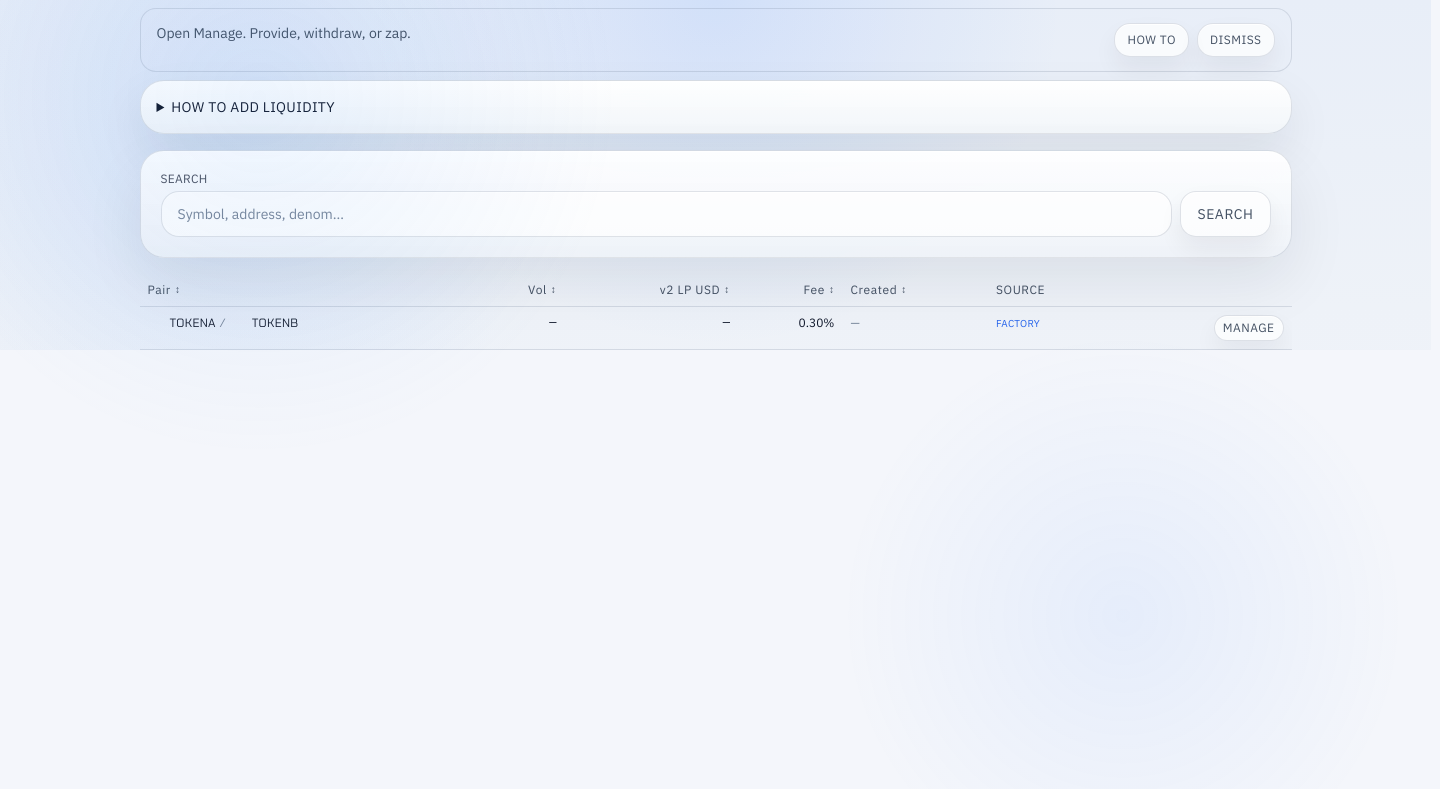
Test: PoolPage › renders pair-scoped zap add after Manage + Zap Add (GitLab #533 / #660)
Step 1. Click the button with test id "pool-row-manage" → (1249, 328), box 1214,315 -> 1284,341
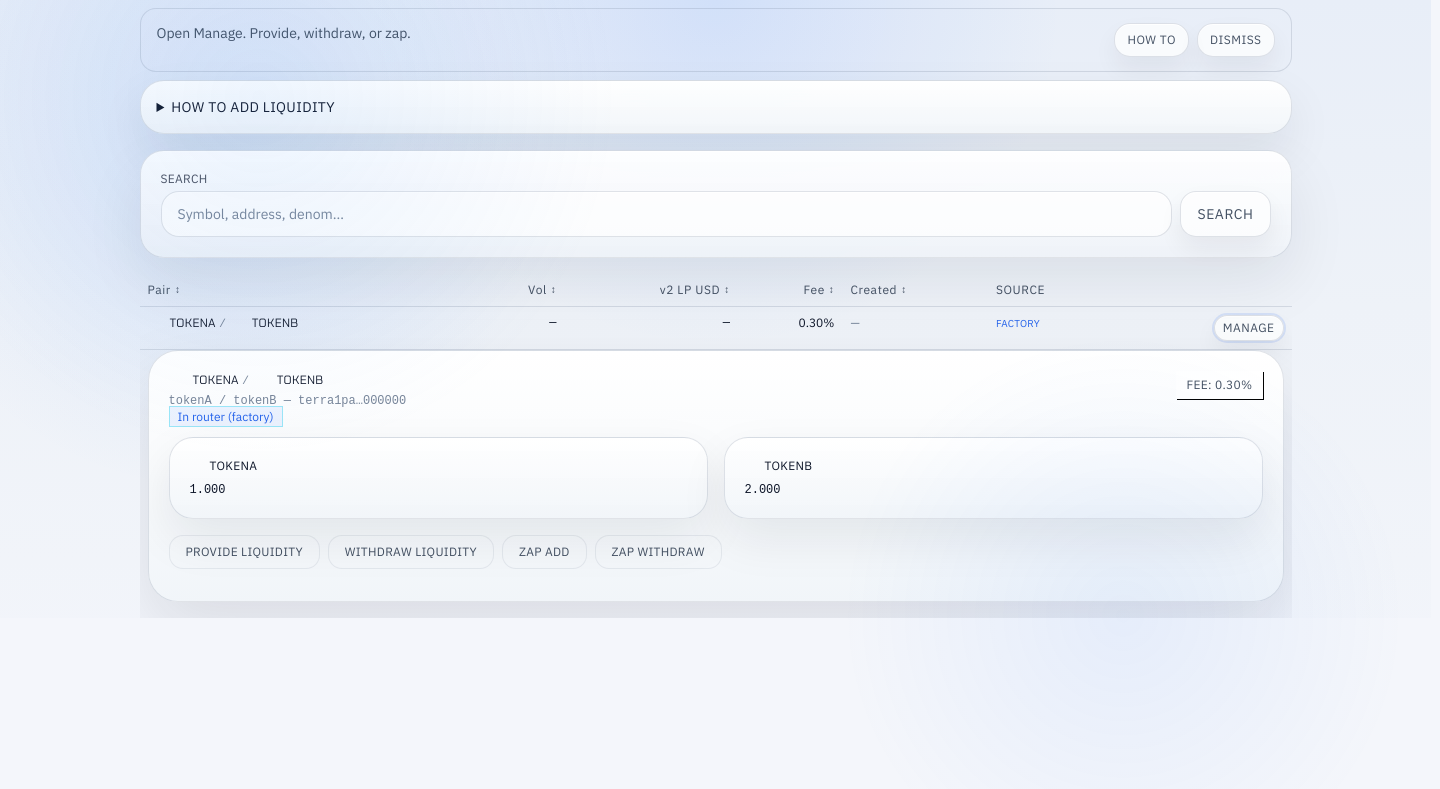
Expected: the element with test id "pool-manage-actions" is shown, 168,535 -> 722,569
Step 2. Click the button with test id "pool-manage-tab-zap-add" → (544, 552), box 502,535 -> 587,569
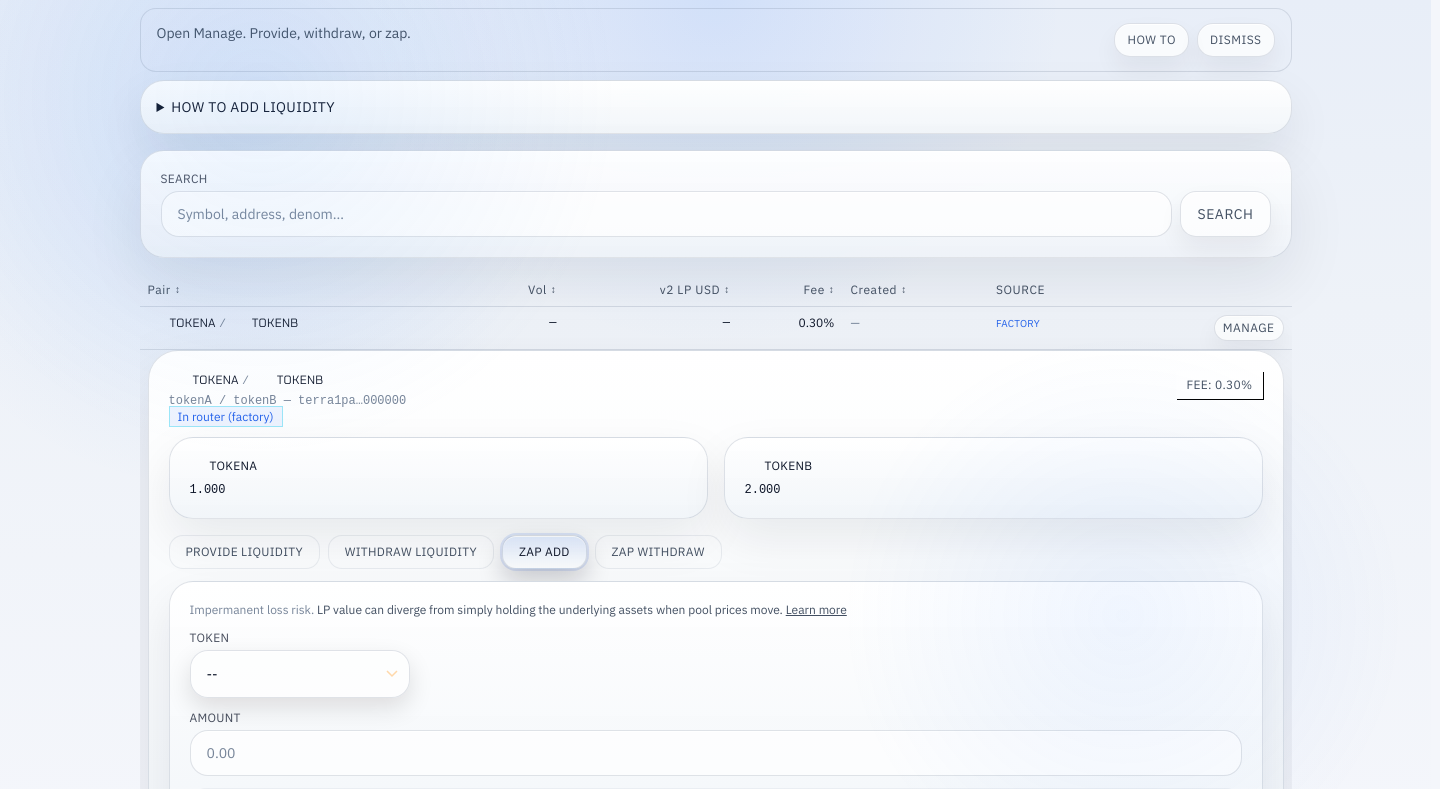
Expected: the element with test id "pool-il-risk-notice" is shown, 190,602 -> 847,617
Expected: the field with test id "pool-one-sided-add-amount" is shown, 190,730 -> 1242,776
